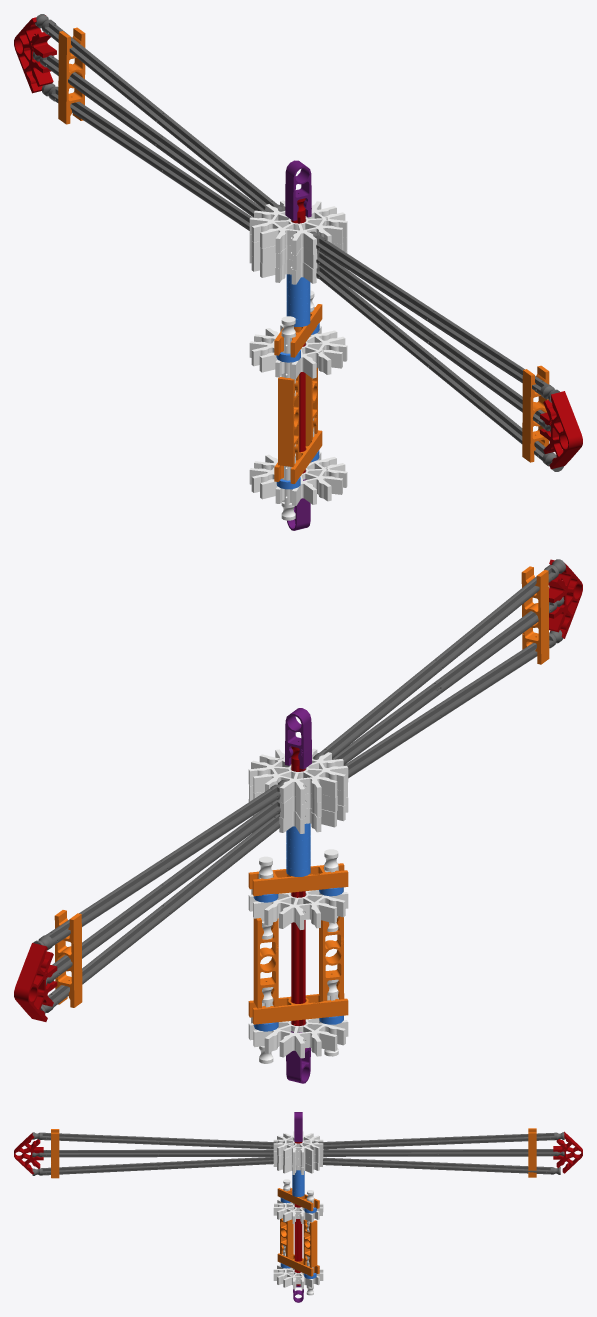
3 views of the same model, one above another, from view 1: azimuth 30°, elevation 25°; view 2: azimuth 150°, elevation 25°; view 3: azimuth 270°, elevation 25° (orthographic). The views are drawn at different scales.
Visible parts, largest first — view 1: Untitled.1956, Untitled.1950, Untitled.1951, Untitled.1949, Untitled.1983, Untitled.1953, Untitled.1952, Untitled.1958, Untitled.1959, Untitled.1948, Untitled.1970, Untitled.1955 (+9 smaller); view 2: Untitled.1951, Untitled.1956, Untitled.1952, Untitled.1953, Untitled.1983, Untitled.1949, Untitled.1950, Untitled.1958, Untitled.1959, Untitled.1955, Untitled.1961, Untitled.1960 (+10 smaller); view 3: Untitled.1956, Untitled.1951, Untitled.1950, Untitled.1952, Untitled.1949, Untitled.1953, Untitled.1983, Untitled.1958, Untitled.1959, Untitled.1948, Untitled.1955, Untitled.1962 (+9 smaller).
Part boxes in pixels (x1,y1,x2,y2): Untitled.1956: (35,14,283,211); Untitled.1950: (316,265,563,471); Untitled.1951: (309,231,560,402); Untitled.1949: (316,250,550,433); Untitled.1983: (249,200,347,255); Untitled.1953: (32,52,265,217); Untitled.1952: (41,83,252,230); Untitled.1958: (249,325,347,379); Untitled.1959: (249,452,347,505); Untitled.1948: (540,391,582,469); Untitled.1970: (278,374,299,466); Untitled.1955: (14,15,56,93); Untitled.1951: (313,559,565,759); Untitled.1956: (33,780,287,950); Untitled.1952: (40,814,280,1014); Untitled.1953: (46,799,280,985); Untitled.1983: (248,748,348,804); Untitled.1949: (332,597,564,765); Untitled.1950: (344,630,562,778); Untitled.1958: (248,887,348,929); Untitled.1959: (248,1017,348,1058); Untitled.1955: (14,943,57,1021); Untitled.1961: (248,863,348,896); Untitled.1960: (248,993,348,1024); Untitled.1956: (312,1132,564,1149); Untitled.1951: (32,1132,284,1149); Untitled.1950: (32,1157,273,1175); Untitled.1952: (323,1157,560,1174); Untitled.1949: (32,1149,273,1157); Untitled.1953: (323,1149,564,1156); Untitled.1983: (273,1131,323,1159); Untitled.1958: (273,1199,323,1223); Untitled.1959: (273,1265,323,1289); Untitled.1948: (14,1133,43,1174); Untitled.1955: (553,1131,582,1173); Untitled.1962: (303,1219,317,1267).
Size of the model in its own units: 0.3693 by 1.55 by 4.24.
